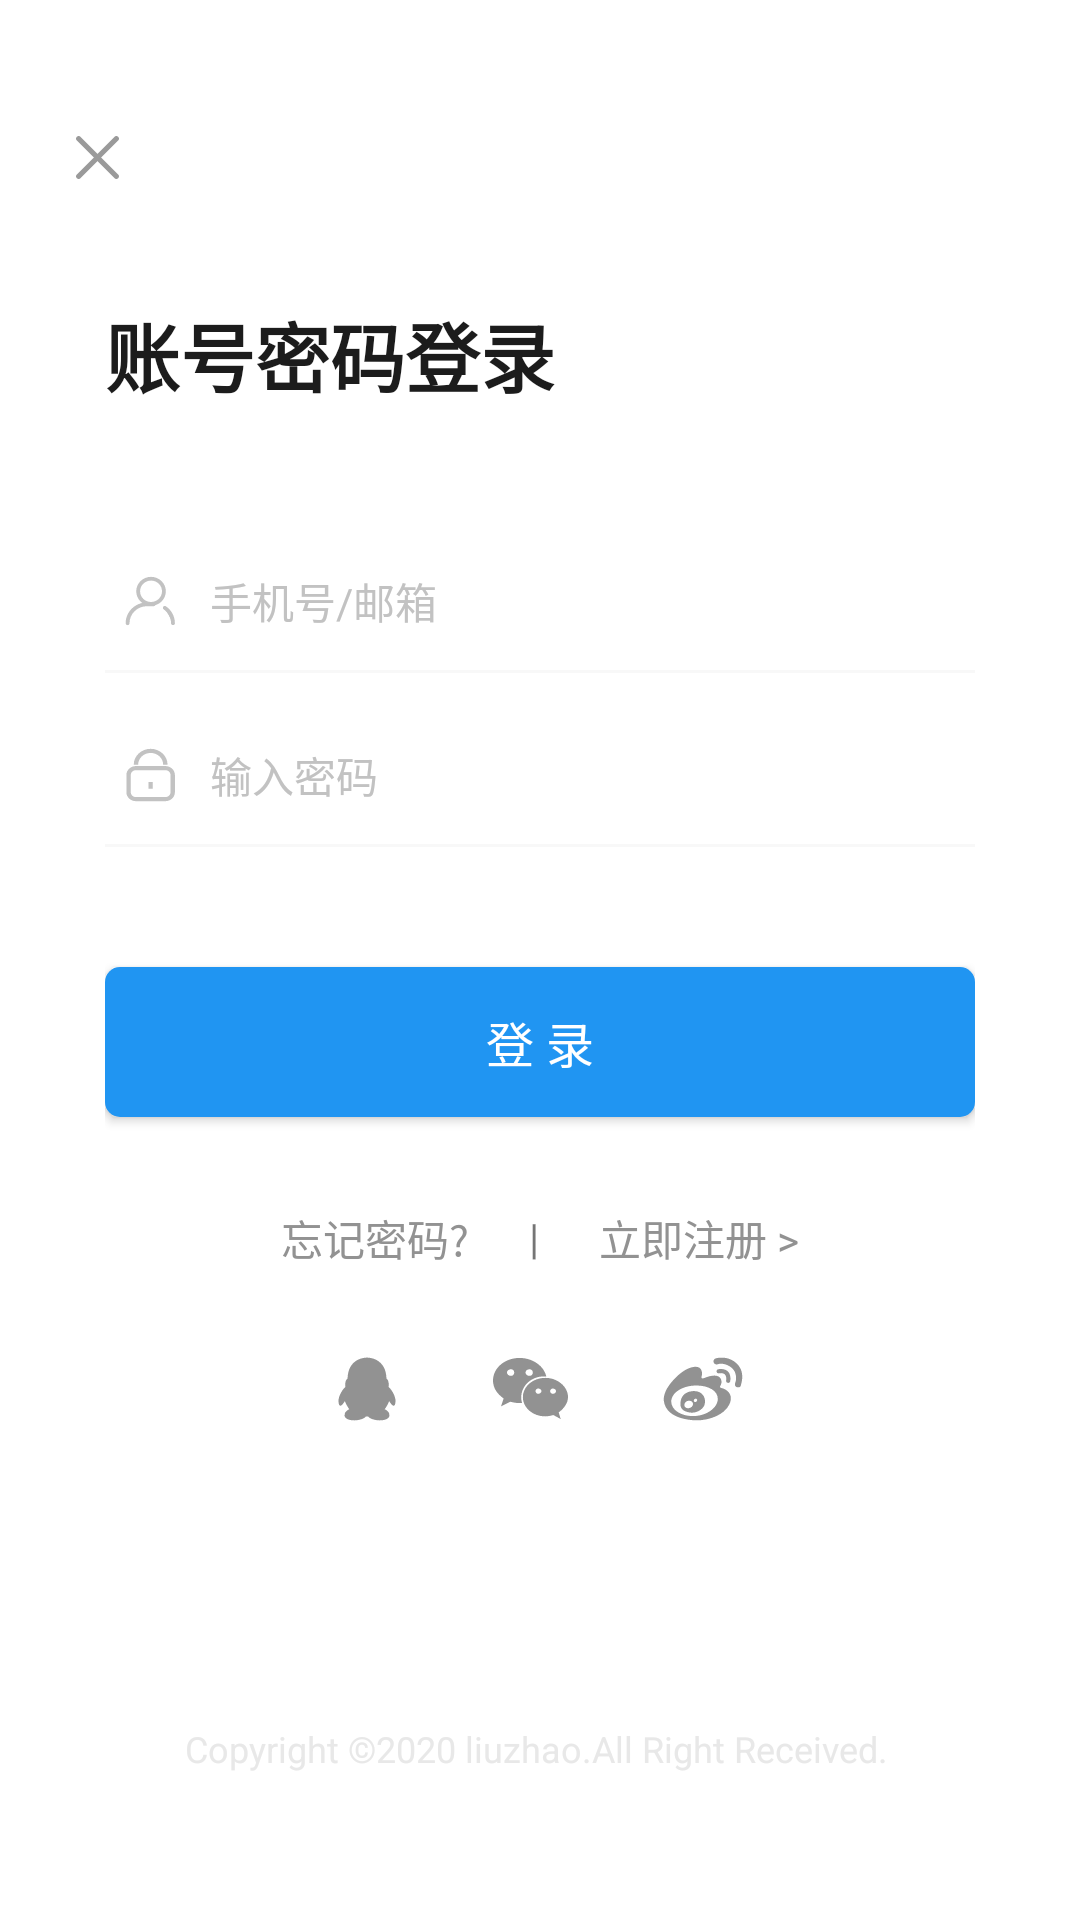

Named icons in this screenshot (1080px x 1920px) and their centers, (x=x, y=y):
close: (x=97, y=157)
